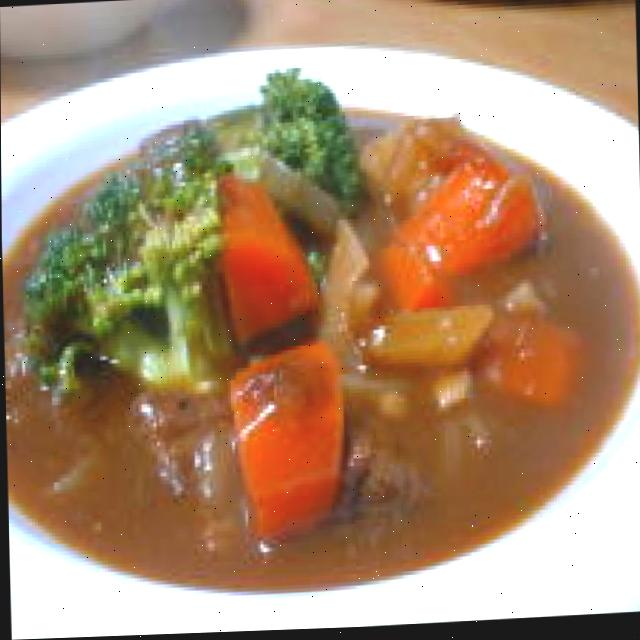汤锅炖物: (0, 17, 640, 640)
